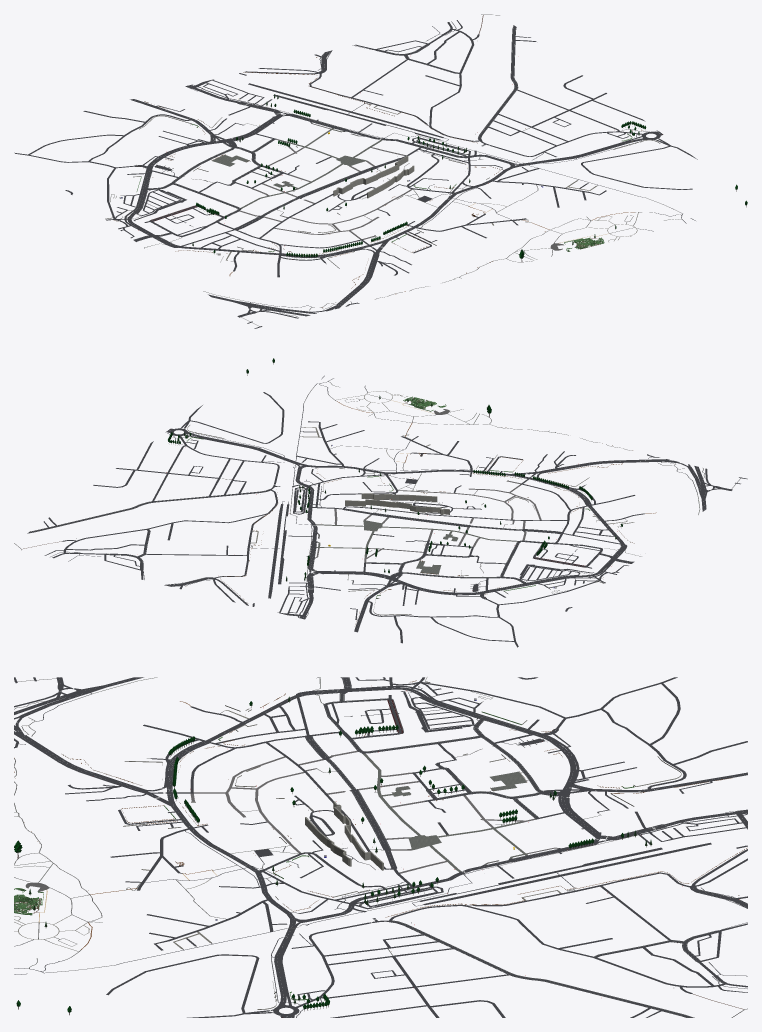
The model's file is osm2world.glb.
3 renders of one model, top to bottom at view 1: azimuth 30°, elevation 25°; view 2: azimuth 150°, elevation 25°; view 3: azimuth 270°, elevation 25°, orthographic. The views are drawn at different scales.
Parts seen in each view (by area): view 1: CityWall w85175338; view 2: CityWall w85175338, CityWall w85173781; view 3: RoadArea Quai 2, CityWall w85175338, RoadArea Quai 1, Road w788017122.
Boxes of the visible parts, left/top/right/bottom form: CityWall w85175338: left=333, top=155, right=408, bottom=196; CityWall w85175338: left=345, top=499, right=449, bottom=514; CityWall w85173781: left=361, top=493, right=437, bottom=501; RoadArea Quai 2: left=423, top=842, right=711, bottom=905; CityWall w85175338: left=333, top=801, right=383, bottom=870; RoadArea Quai 1: left=419, top=847, right=662, bottom=901; Road w788017122: left=351, top=685, right=600, bottom=833.
Bounding box in the file's own units: 977 × 24.44 × 891.
Materials: 31 (25 with a texture image).
